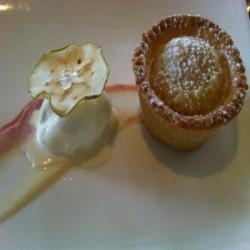apple_pie: (130, 19, 250, 160)
icecream: (31, 89, 124, 170)
